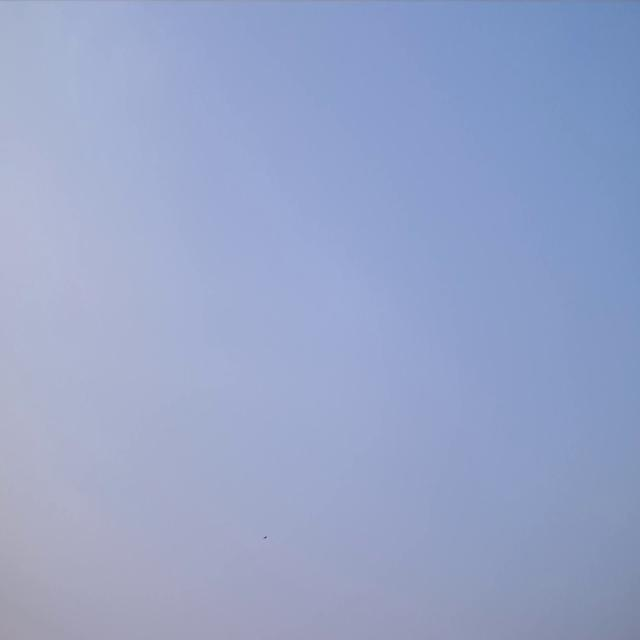UAV: (263, 535, 267, 539)
